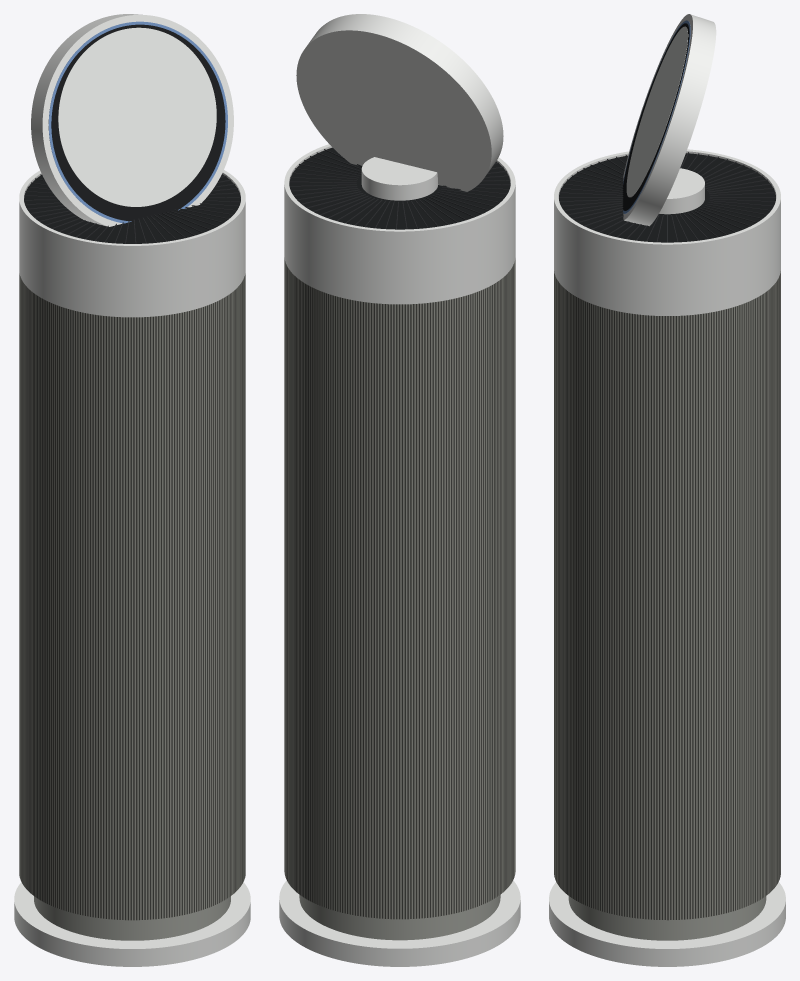
3 renders of one model, left to right at view 1: azimuth 30°, elevation 25°; view 2: azimuth 150°, elevation 25°; view 3: azimuth 270°, elevation 25°, orthographic. The views are drawn at different scales.
Visible parts, largest first — view 1: door_body, door_base_plate, B54_ControlDiscEstimate, HeadVentGapEstimate, trim_gap, B54_GrilleRadialEstimate_0, HeadRingEstimate; view 2: door_body, door_base_plate, HeadVentGapEstimate, trim_gap, B54_GrilleRadialEstimate_0; view 3: door_body, door_base_plate, HeadVentGapEstimate, B54_GrilleRadialEstimate_0, trim_gap, B54_ControlDiscEstimate.
Part boxes in pixels (x1,y1,x2,y2): door_body: [19, 273, 245, 920]; door_base_plate: [14, 14, 250, 966]; B54_ControlDiscEstimate: [58, 27, 216, 206]; HeadVentGapEstimate: [24, 24, 240, 243]; trim_gap: [34, 896, 230, 940]; B54_GrilleRadialEstimate_0: [24, 174, 240, 243]; HeadRingEstimate: [48, 21, 227, 223]; door_body: [284, 257, 515, 919]; door_base_plate: [279, 14, 520, 966]; HeadVentGapEstimate: [289, 147, 510, 229]; trim_gap: [299, 895, 500, 940]; B54_GrilleRadialEstimate_0: [289, 149, 510, 229]; door_body: [554, 271, 780, 920]; door_base_plate: [549, 14, 785, 966]; HeadVentGapEstimate: [559, 23, 775, 242]; B54_GrilleRadialEstimate_0: [559, 152, 775, 242]; trim_gap: [568, 896, 766, 940]; B54_ControlDiscEstimate: [626, 26, 688, 197].
Bounding box in the file's own units: 0.24 × 0.997 × 0.24.
7 materials, 1 textured.
